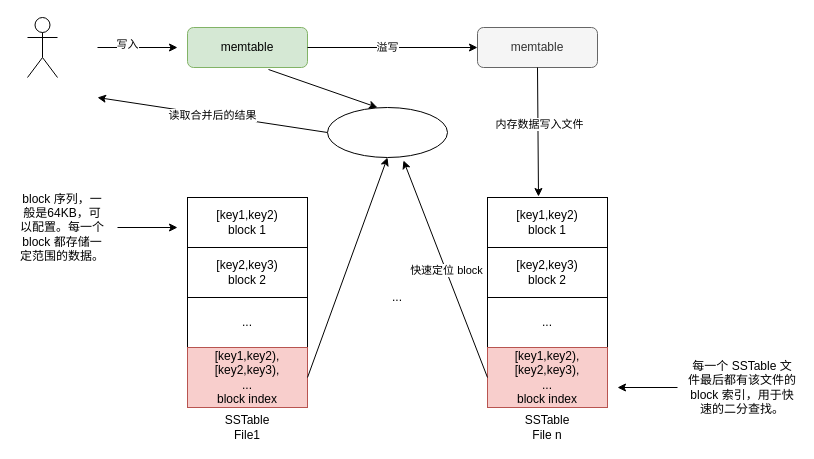
This 814x459 diagram has some shape labels left out. Each missing label, with the box of its shape:
客户端: (26, 16, 58, 78)
查 memtable 和所有的 SSTable: (326, 106, 448, 158)
